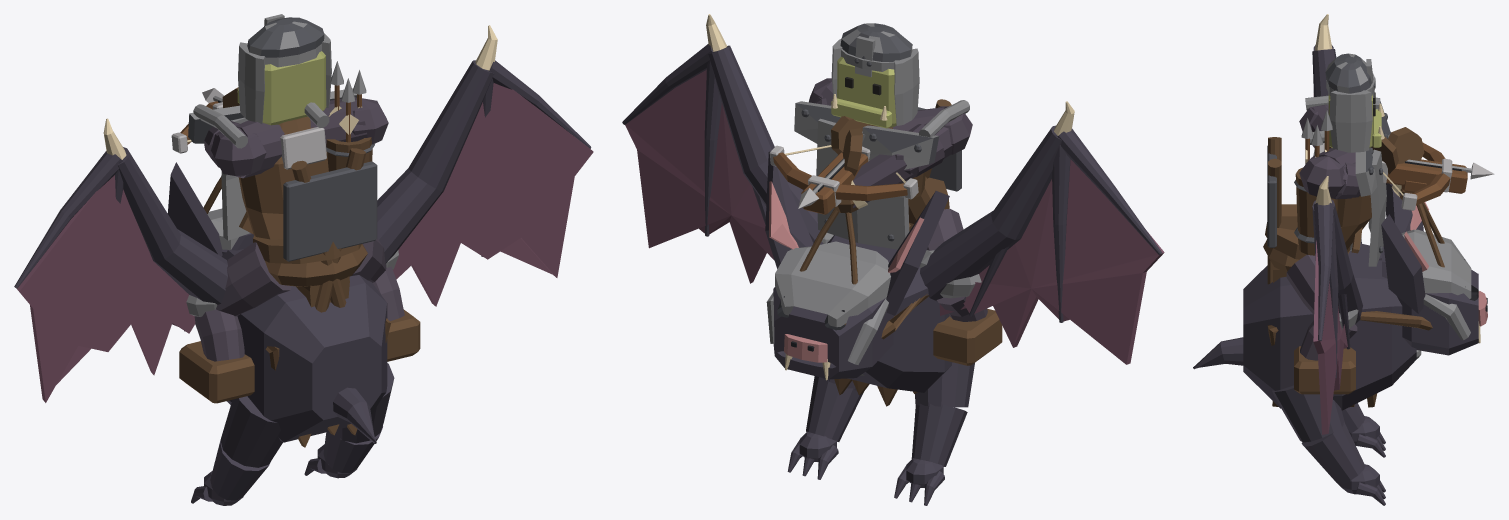
The model's file is host_25.glb.
The picture shows the model from 3 angles, left to right: view 1: azimuth 30°, elevation 25°; view 2: azimuth 150°, elevation 25°; view 3: azimuth 270°, elevation 25°; orthographic projection. The views are drawn at different scales.
Parts seen in each view (by area): view 1: V6 source mounted closed scalloped membrane R, V6 source mounted closed scalloped membrane L, V6 mount continuous anatomical thorax, V6 source mounted wing shoulder elbow wrist bone R, V6 source contacting small rear armor plate, V6 source mounted wing shoulder elbow wrist bone L, V6 rider source seated thorax, Observed face, Grounded boot L, V6 bat actual contacting hind thigh L, V6 rider actual connected seated thigh L, V6 source fitted rounded metal cap (+25 smaller); view 2: V6 source mounted closed scalloped membrane L, V6 source mounted closed scalloped membrane R, V6 source mounted wing shoulder elbow wrist bone L, V6 bat source fitted metal forehead shell, V6 mount continuous anatomical thorax, V6 bat source short faceted cranium, V6 source mounted wing shoulder elbow wrist bone R, V6 source curved fitted breastplate, Grounded boot L, V6 bat actual hind shin and ankle L, V6 bat source tall pointed anatomical ear, V6 bat actual hind shin and ankle R (+31 smaller); view 3: V6 mount continuous anatomical thorax, V6 bat source short faceted cranium, V6 source mounted closed scalloped membrane R, V6 bat source tall pointed anatomical ear.001, V6 bat source fitted metal forehead shell, V6 mounted knight actual continuous cap contacting cheek tem, V6 bat actual contacting hind thigh R, V6 bat actual hind shin and ankle R, V6 source actual membrane finger R, Grounded boot R, V6 source mounted wing shoulder elbow wrist bone R, V6 source fitted rounded metal cap (+30 smaller).
Boxes of the visible parts, bbox=[...] form: V6 source mounted closed scalloped membrane R: bbox=[393, 83, 593, 306]; V6 source mounted closed scalloped membrane L: bbox=[16, 175, 195, 402]; V6 mount continuous anatomical thorax: bbox=[222, 249, 387, 442]; V6 source mounted wing shoulder elbow wrist bone R: bbox=[377, 60, 494, 263]; V6 source contacting small rear armor plate: bbox=[283, 161, 377, 261]; V6 source mounted wing shoulder elbow wrist bone L: bbox=[117, 147, 227, 304]; V6 rider source seated thorax: bbox=[238, 116, 328, 239]; Observed face: bbox=[262, 51, 326, 125]; Grounded boot L: bbox=[179, 341, 254, 403]; V6 bat actual contacting hind thigh L: bbox=[220, 396, 282, 467]; V6 rider actual connected seated thigh L: bbox=[216, 242, 291, 316]; V6 source fitted rounded metal cap: bbox=[247, 17, 324, 57]; V6 source mounted closed scalloped membrane L: bbox=[939, 159, 1164, 364]; V6 source mounted closed scalloped membrane R: bbox=[625, 69, 774, 283]; V6 source mounted wing shoulder elbow wrist bone L: bbox=[920, 125, 1061, 300]; V6 bat source fitted metal forehead shell: bbox=[775, 241, 890, 327]; V6 mount continuous anatomical thorax: bbox=[827, 235, 952, 392]; V6 bat source short faceted cranium: bbox=[773, 287, 893, 379]; V6 source mounted wing shoulder elbow wrist bone R: bbox=[708, 45, 823, 244]; V6 source curved fitted breastplate: bbox=[816, 118, 909, 249]; Grounded boot L: bbox=[933, 308, 1002, 365]; V6 bat actual hind shin and ankle L: bbox=[911, 403, 967, 466]; V6 bat source tall pointed anatomical ear: bbox=[886, 191, 949, 315]; V6 bat actual hind shin and ankle R: bbox=[806, 376, 863, 441]; V6 mount continuous anatomical thorax: bbox=[1243, 243, 1416, 410]; V6 bat source short faceted cranium: bbox=[1382, 246, 1478, 355]; V6 source mounted closed scalloped membrane R: bbox=[1313, 240, 1347, 434]; V6 bat source tall pointed anatomical ear.001: bbox=[1381, 214, 1425, 313]; V6 bat source fitted metal forehead shell: bbox=[1387, 229, 1471, 298]; V6 mounted knight actual continuous cap contacting cheek tem: bbox=[1329, 90, 1372, 152]; V6 bat actual contacting hind thigh R: bbox=[1272, 385, 1344, 442]; V6 bat actual hind shin and ankle R: bbox=[1301, 422, 1365, 484]; V6 source actual membrane finger R: bbox=[1313, 202, 1333, 341]; Grounded boot R: bbox=[1294, 346, 1355, 394]; V6 source mounted wing shoulder elbow wrist bone R: bbox=[1312, 199, 1362, 324]; V6 source fitted rounded metal cap: bbox=[1325, 53, 1373, 93].
Bounding box in the file's own units: 2.33 × 1.85 × 1.22.
